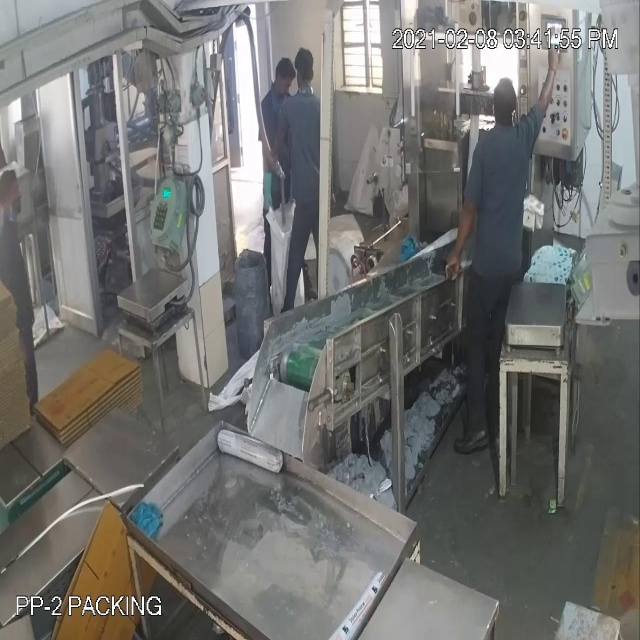Sin_guantes: (442, 181, 487, 296), (530, 20, 571, 121)
